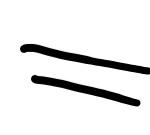eqv: (20, 44, 150, 107)
